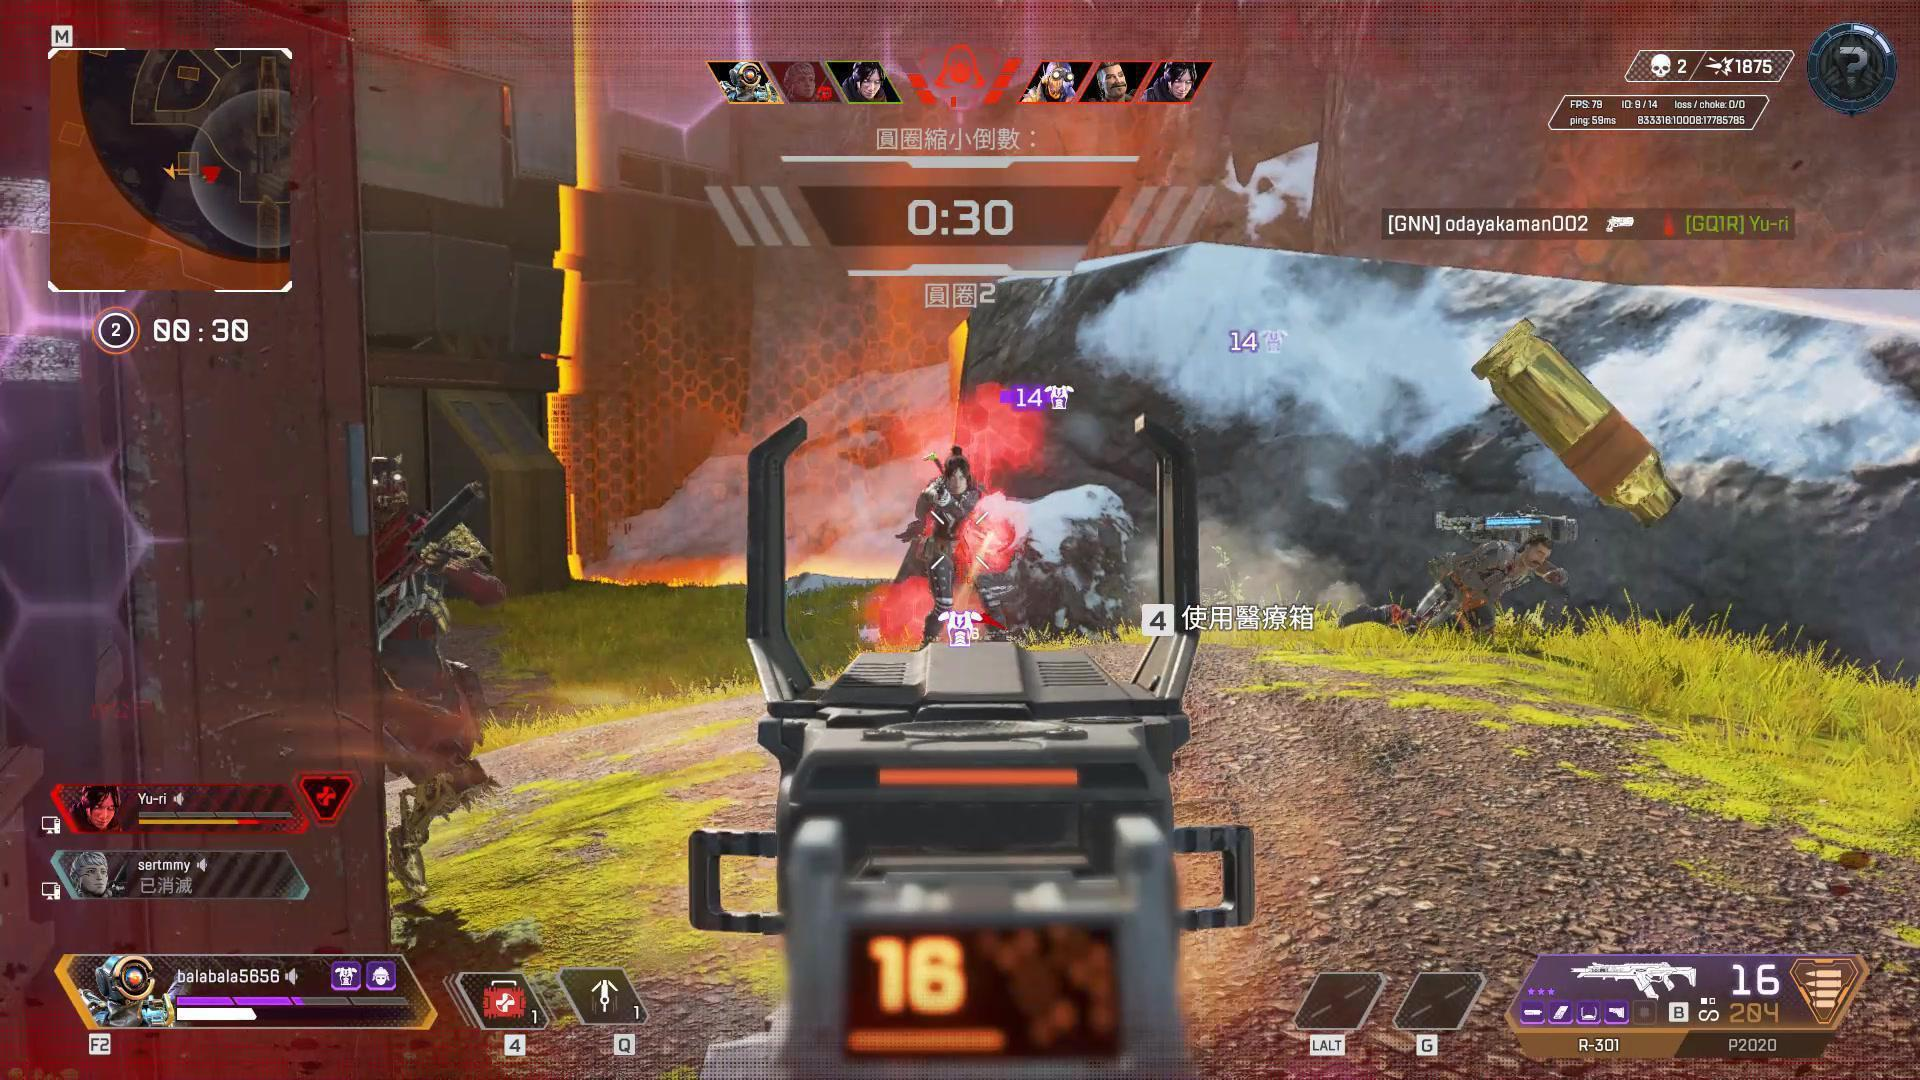avatar: (370, 453, 507, 899), (1410, 536, 1555, 648), (919, 442, 983, 639)
